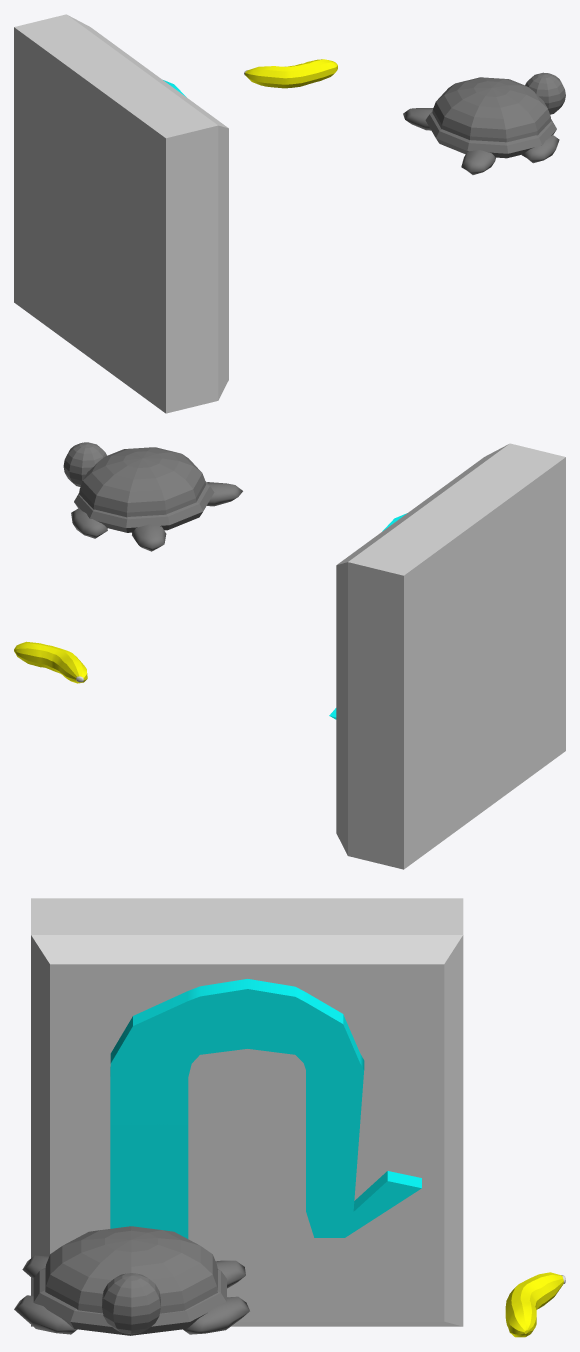
Rendered from PROJ_EasterEggsV2.fbx.
The picture shows the model from 3 angles, top to bottom: view 1: azimuth 30°, elevation 25°; view 2: azimuth 150°, elevation 25°; view 3: azimuth 270°, elevation 25°; orthographic projection. The views are drawn at different scales.
Parts seen in each view (by area): view 1: pCube1, Turtle9, pCube12; view 2: pCube1, Turtle9, pCube12; view 3: pCube1, Glyph_Low8, Turtle9, pCube12.
Boxes of the visible parts, bbox=[...] form: pCube1: bbox=[14, 14, 228, 413]; Turtle9: bbox=[403, 72, 565, 174]; pCube12: bbox=[244, 59, 337, 88]; pCube1: bbox=[336, 443, 565, 869]; Turtle9: bbox=[63, 442, 242, 551]; pCube12: bbox=[14, 641, 87, 683]; pCube1: bbox=[31, 898, 463, 1326]; Glyph_Low8: bbox=[110, 979, 421, 1238]; Turtle9: bbox=[14, 1226, 249, 1335]; pCube12: bbox=[505, 1272, 565, 1337].
Bounding box in the file's own units: 1170 × 711 × 908.
